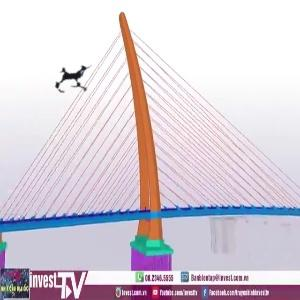drone: (42, 48, 107, 113)
